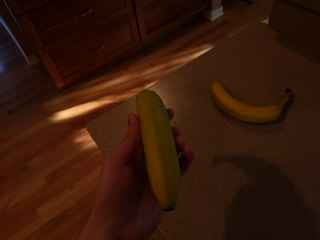banana: (122, 82, 188, 220), (207, 74, 300, 132)
